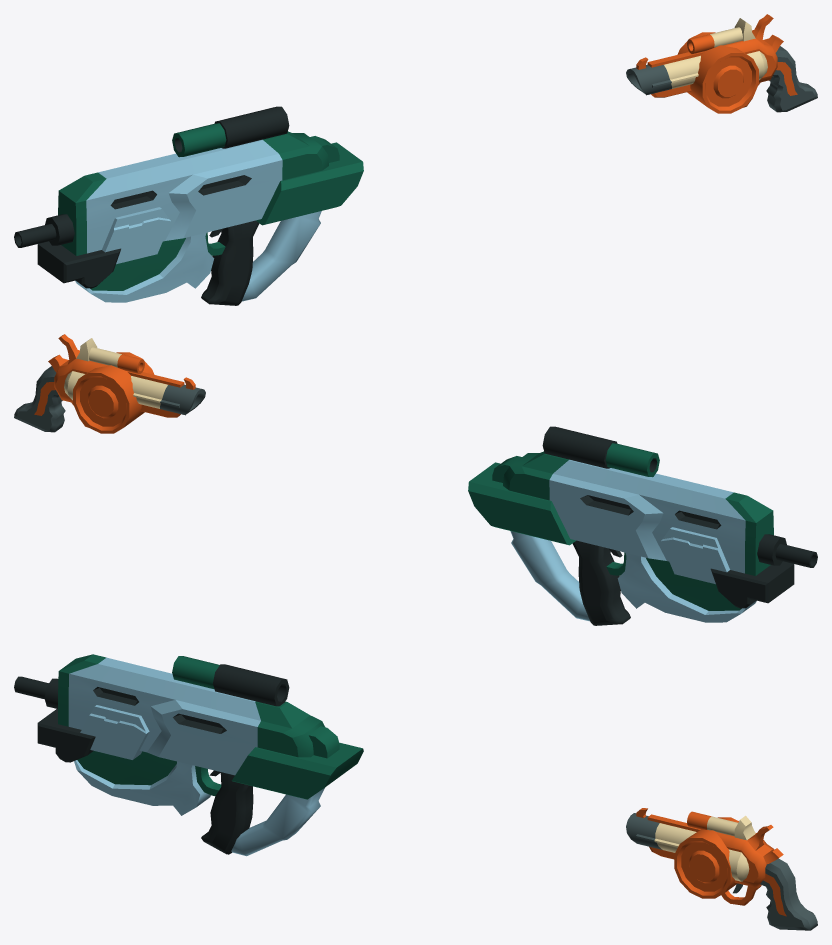
The model's file is protezy_ipushki.fbx.
3 views of the same model, one above another, from view 1: azimuth 30°, elevation 25°; view 2: azimuth 150°, elevation 25°; view 3: azimuth 330°, elevation 25° (orthographic).
Visible parts, largest first — view 1: Karkas, detali, Karkas.001, detali.001; view 2: Karkas, detali, Karkas.001, detali.001; view 3: Karkas, detali, Karkas.001, detali.001.
Boxes of the visible parts, x1,y1,x2,y2 form: Karkas: (58,131,328,302); detali: (14,106,363,305); Karkas.001: (626,14,817,113); detali.001: (636,27,742,97); Karkas: (503,451,773,622); detali: (468,426,817,625); Karkas.001: (14,334,205,433); detali.001: (89,347,195,417); Karkas: (58,654,324,815); detali: (14,656,363,856); Karkas.001: (626,813,817,930); detali.001: (636,808,742,893).
Bounding box in the file's own units: 295 × 65.42 × 21.41.
